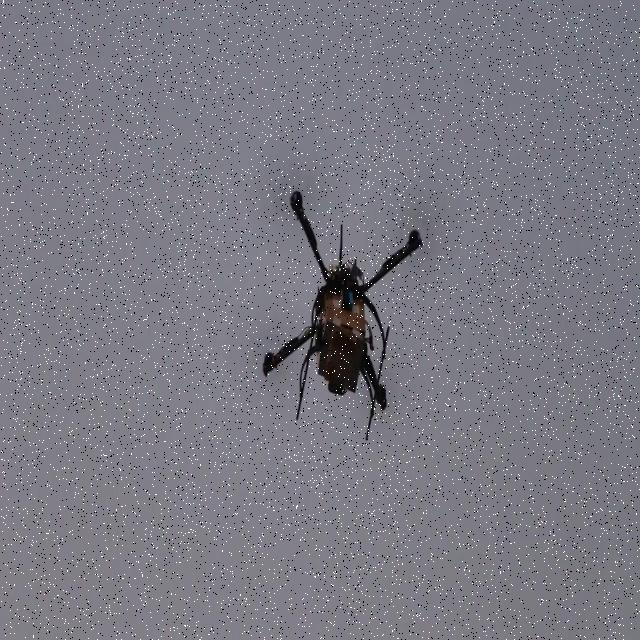UAV: (262, 189, 424, 442)
